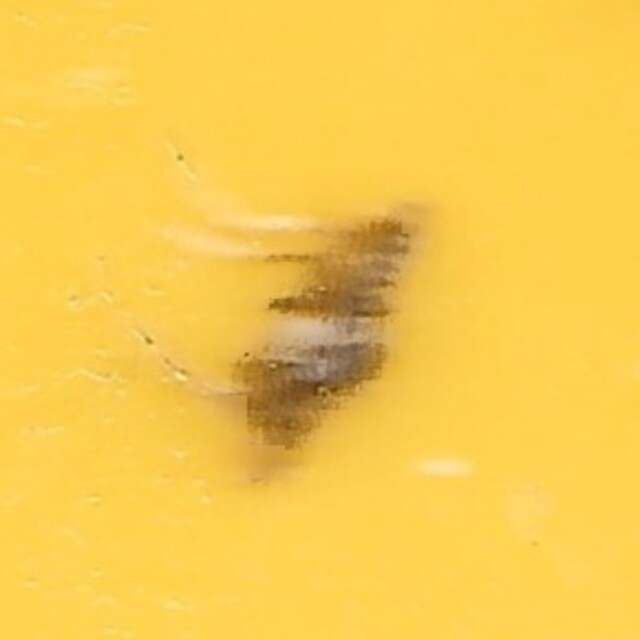Nematocera: (221, 186, 419, 454)
